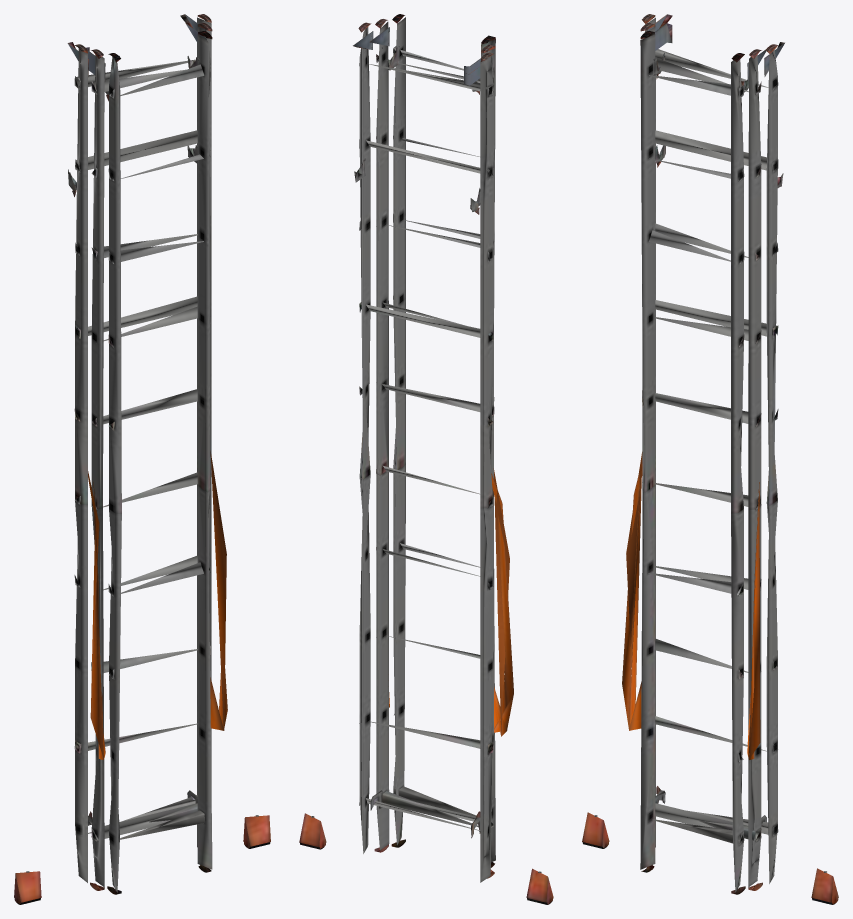
File: ladder_sectioned_01.glb
The picture shows the model from 3 angles, left to right: view 1: azimuth 30°, elevation 25°; view 2: azimuth 150°, elevation 25°; view 3: azimuth 330°, elevation 25°; orthographic projection.
Parts seen in each view (by area): view 1: ladder_section_03, ladder_section_01, ladder_section_02, ladder_ribbon; view 2: ladder_section_01, ladder_section_02, ladder_section_03, ladder_ribbon; view 3: ladder_section_03, ladder_section_02, ladder_section_01, ladder_ribbon.
Part boxes in pixels (<box>): ladder_section_03: <box>105,31,212,894</box>; ladder_section_01: <box>14,14,270,904</box>; ladder_section_02: <box>86,23,212,890</box>; ladder_ribbon: <box>88,451,227,759</box>; ladder_section_01: <box>299,22,553,904</box>; ladder_section_02: <box>369,19,495,878</box>; ladder_section_03: <box>388,14,495,867</box>; ladder_ribbon: <box>389,468,513,736</box>; ladder_section_03: <box>640,31,748,894</box>; ladder_section_02: <box>640,23,766,890</box>; ladder_section_01: <box>582,14,838,904</box>; ladder_ribbon: <box>622,452,760,759</box>.
Size of the model in its own units: 0.6615 by 2.13 by 0.177.
1 material, 1 textured.
